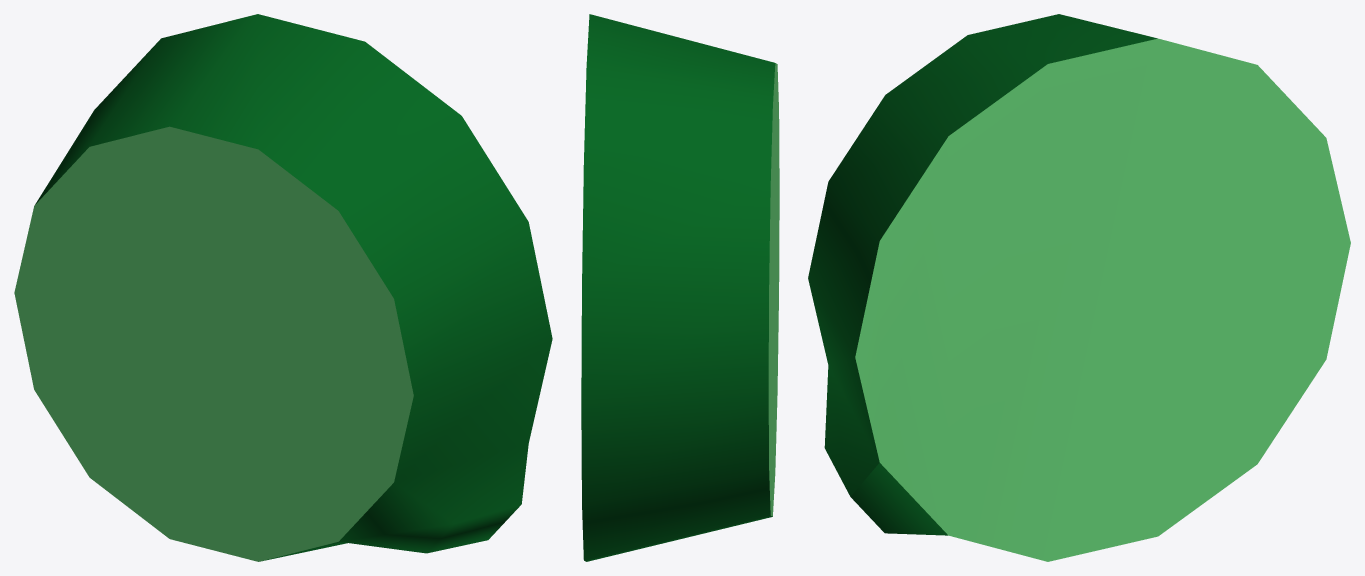
File: mesh_PickleSlice_Stage03.fbx
3 renders of one model, left to right at view 1: azimuth 30°, elevation 25°; view 2: azimuth 150°, elevation 25°; view 3: azimuth 270°, elevation 25°, orthographic.
Parts seen in each view (by area): view 1: mesh_PickleSlice_Stage03; view 2: mesh_PickleSlice_Stage03; view 3: mesh_PickleSlice_Stage03.
Part boxes in pixels (box(x1,y1,x2,y2)): mesh_PickleSlice_Stage03: box(14, 14, 552, 561); mesh_PickleSlice_Stage03: box(581, 14, 779, 561); mesh_PickleSlice_Stage03: box(808, 14, 1350, 561).
Bounding box in the file's own units: 0.0208 × 0.0277 × 0.0274.
